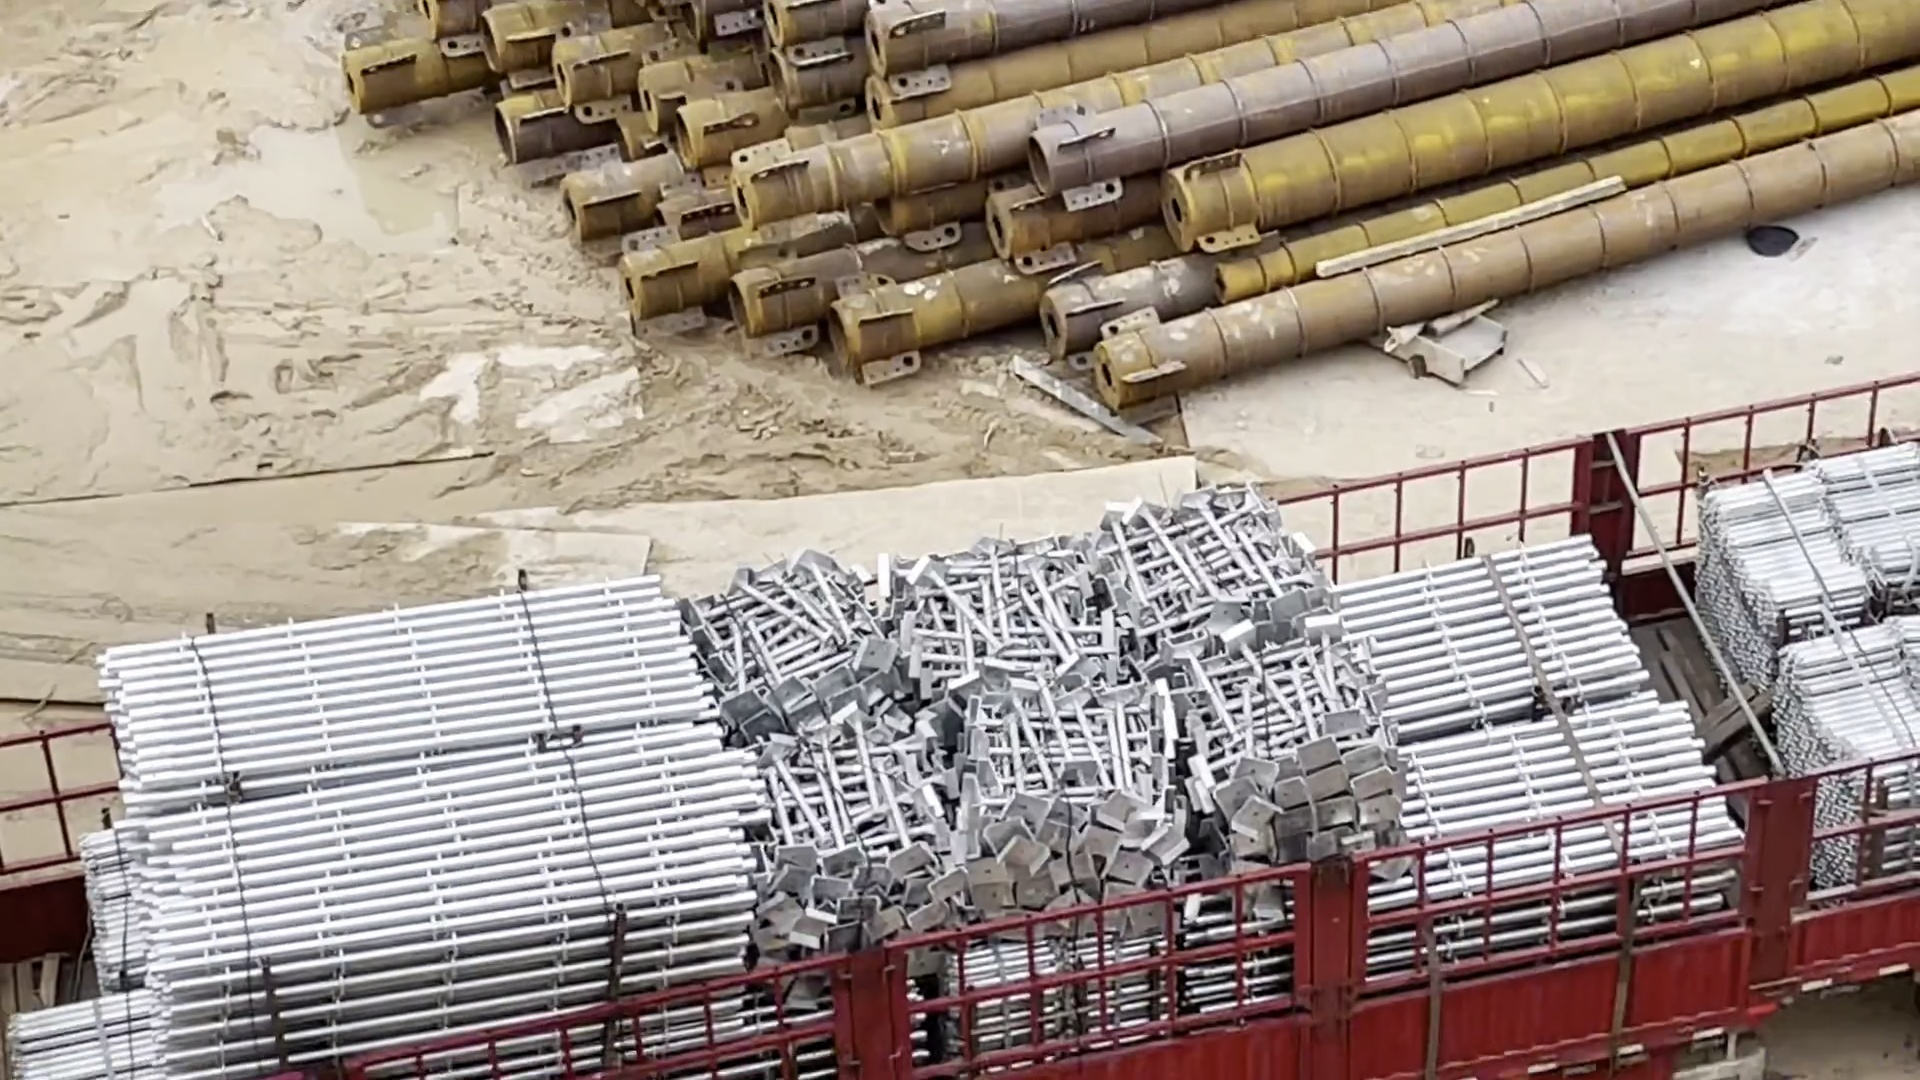scaffold: (7, 579, 746, 1080), (1296, 535, 1749, 984), (1698, 444, 1920, 878)
